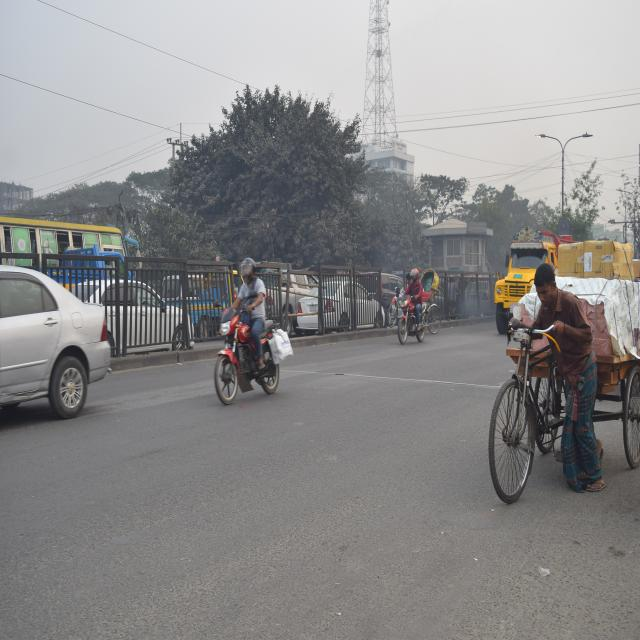car: (0, 246, 145, 440)
motorbike: (205, 295, 296, 411), (374, 287, 446, 357)
truck: (482, 217, 577, 337)
